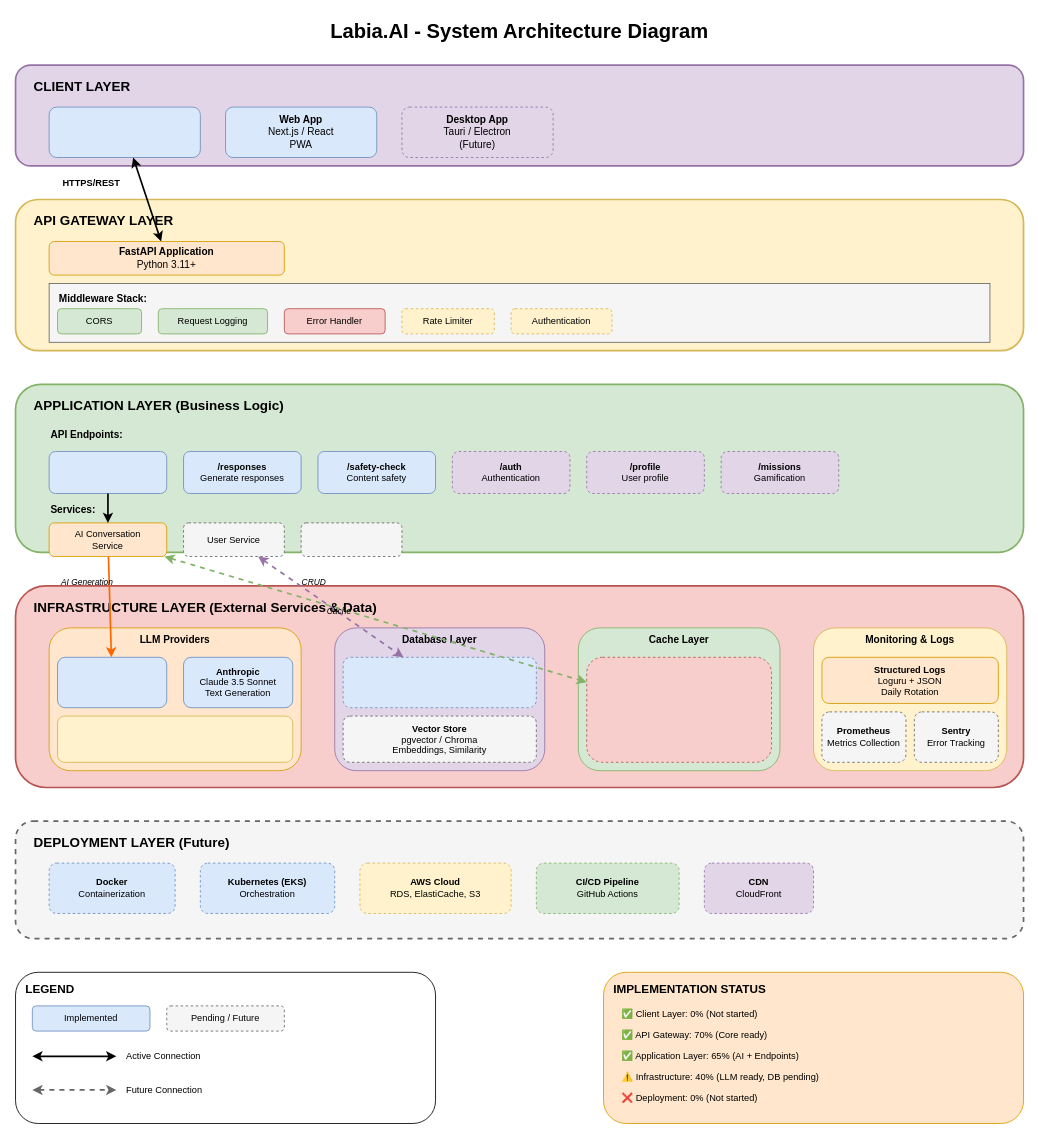
Some shapes in this 1038 by 1138 pixel diagram are drawn without their labels. The shapes that lost their labels are listed below. From the top down, each one's centre as x and y in pixels, then its label:
the point at 124,132: Mobile App React Native iOS / Android
the point at 107,472: /openers Generate openers
the point at 351,539: Auth Service
the point at 112,682: OpenAI GPT-4 Turbo Text Generation
the point at 439,682: PostgreSQL Users, Profiles Conversations, Messages
the point at 679,709: Redis Response Cache Session Storage Rate Limiting
the point at 175,738: Prompt Templates 5 Cultural Contexts Boricua, Mexicano, etc.
